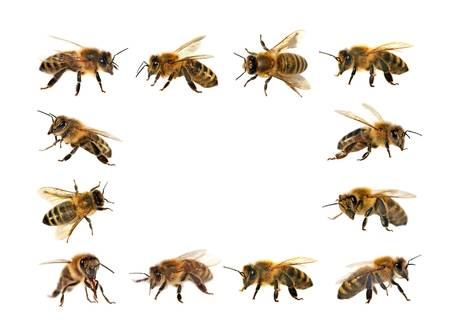bee: (317, 98, 430, 173), (26, 106, 145, 173), (130, 27, 230, 103), (329, 245, 430, 317), (317, 31, 423, 94), (228, 26, 315, 102), (30, 174, 120, 246), (225, 246, 326, 308), (125, 245, 229, 305), (318, 179, 423, 238), (30, 252, 131, 313), (35, 31, 126, 96)
